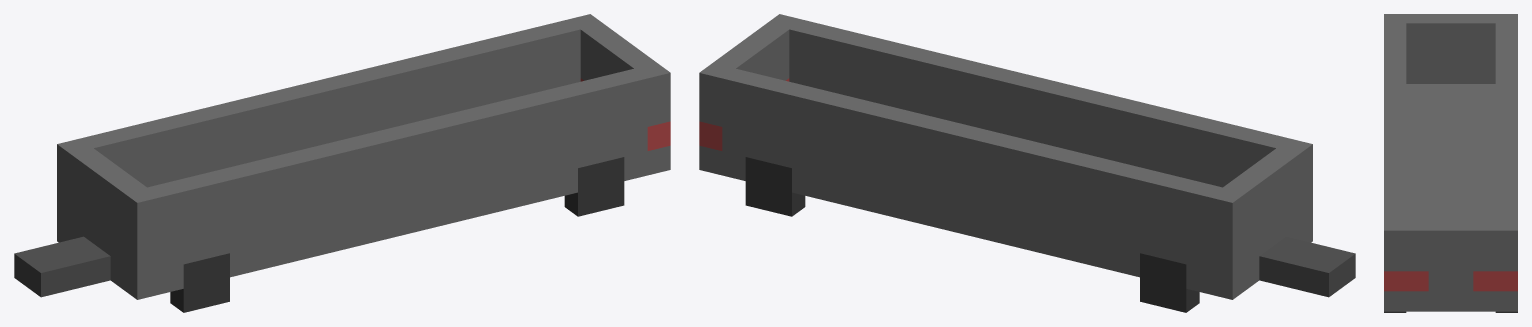
The model's file is truck-trailer-v3-grey.gltf.
The picture shows the model from 3 angles, left to right: view 1: azimuth 30°, elevation 25°; view 2: azimuth 150°, elevation 25°; view 3: azimuth 270°, elevation 25°; orthographic projection. The views are drawn at different scales.
Parts seen in each view (by area): view 1: model, wheels; view 2: model, wheels; view 3: model.
Part boxes in pixels (left/top/right/bottom): model: left=14, top=14, right=670, bottom=299; wheels: left=170, top=157, right=624, bottom=312; model: left=699, top=14, right=1355, bottom=299; wheels: left=745, top=157, right=1199, bottom=312; model: left=1384, top=14, right=1517, bottom=311.
Size of the model in its own units: 2.6 by 0.5 by 0.6.
Materials: 2 (2 with a texture image).
